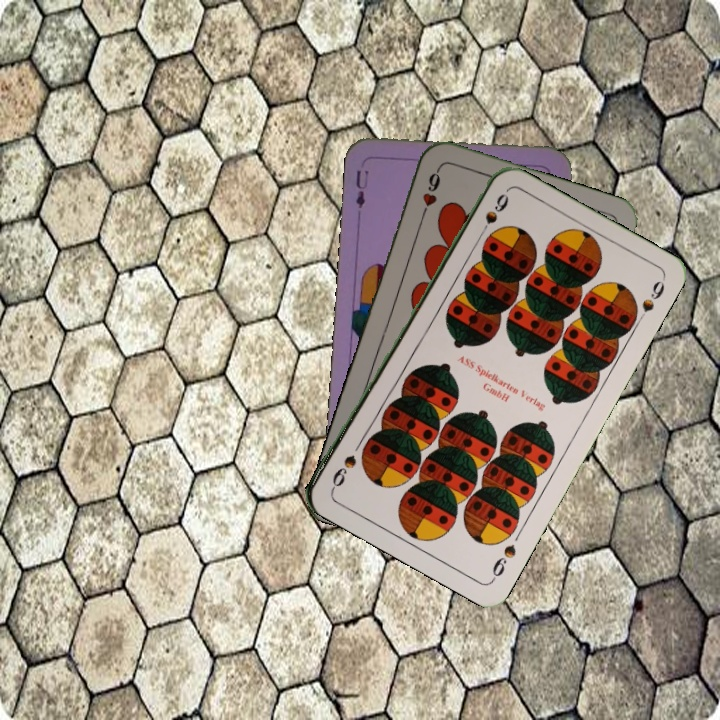EU: (351, 166, 372, 211)
H9: (417, 164, 443, 221)
S9: (473, 190, 510, 242), (487, 540, 519, 583)
